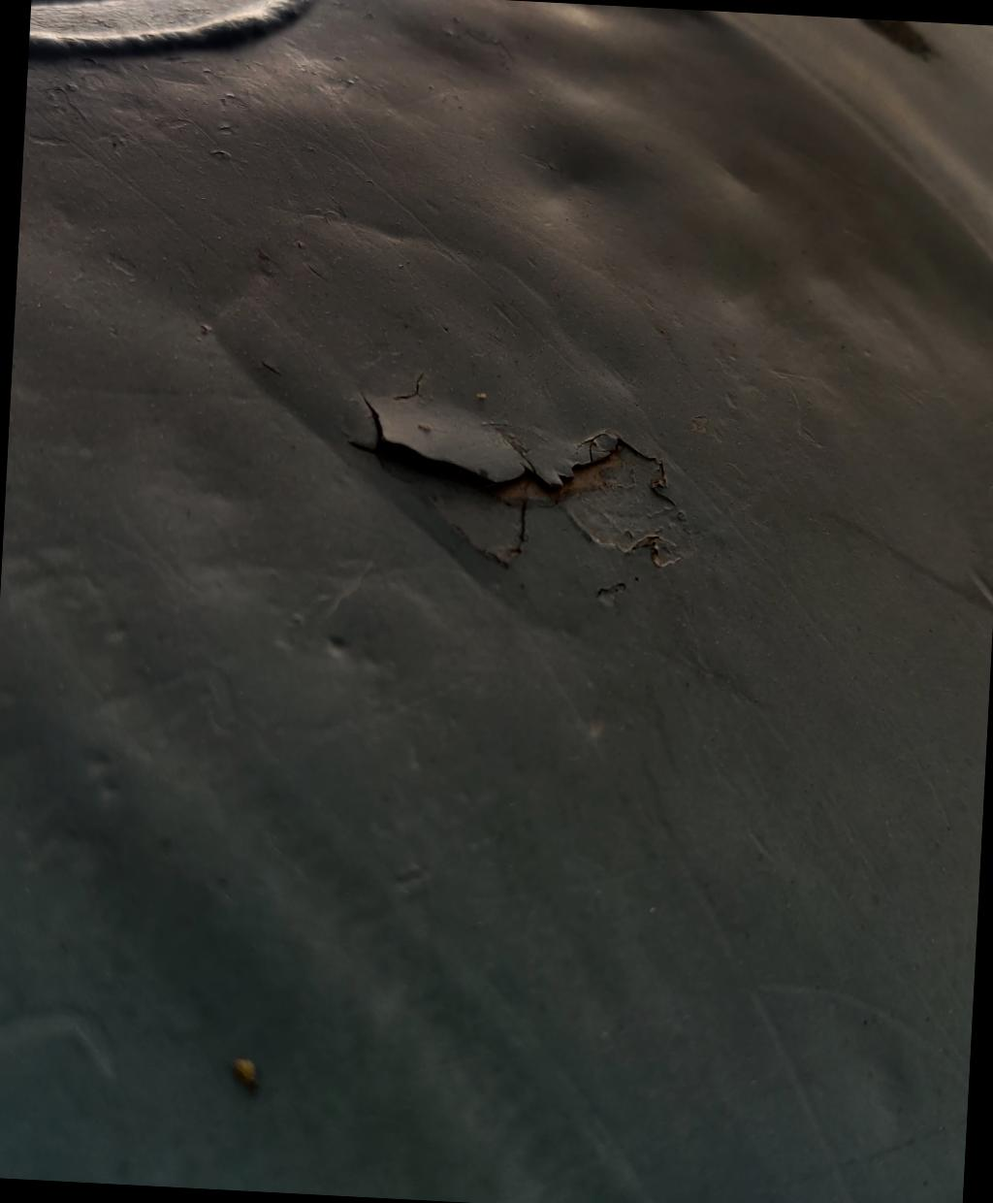crack: (316, 355, 705, 578)
dent: (473, 70, 691, 276), (513, 0, 735, 75)
